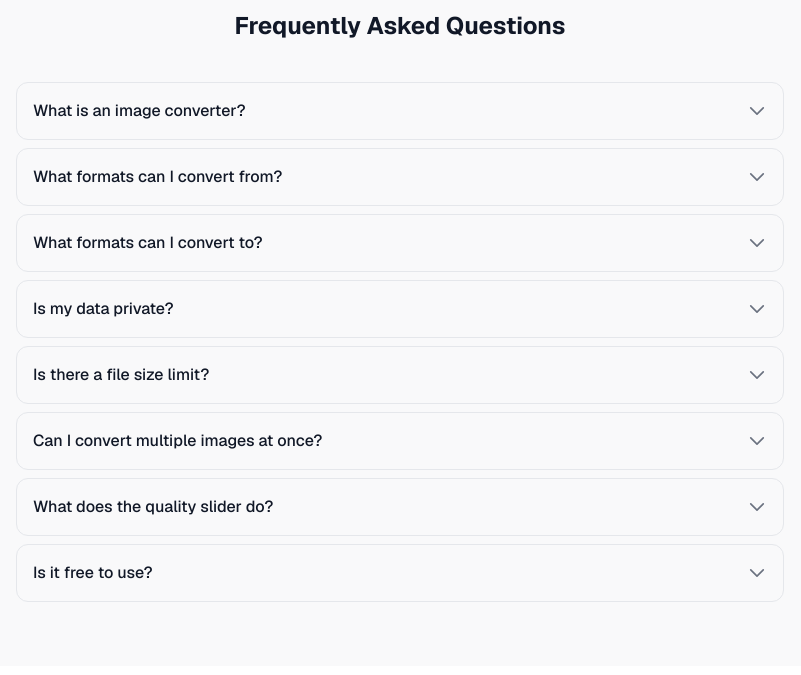
Test case: ConverterFAQ › expands answer on click
Click the button "What is an image converter?" at {"x": 139, "y": 110}, box [17, 83, 783, 139]
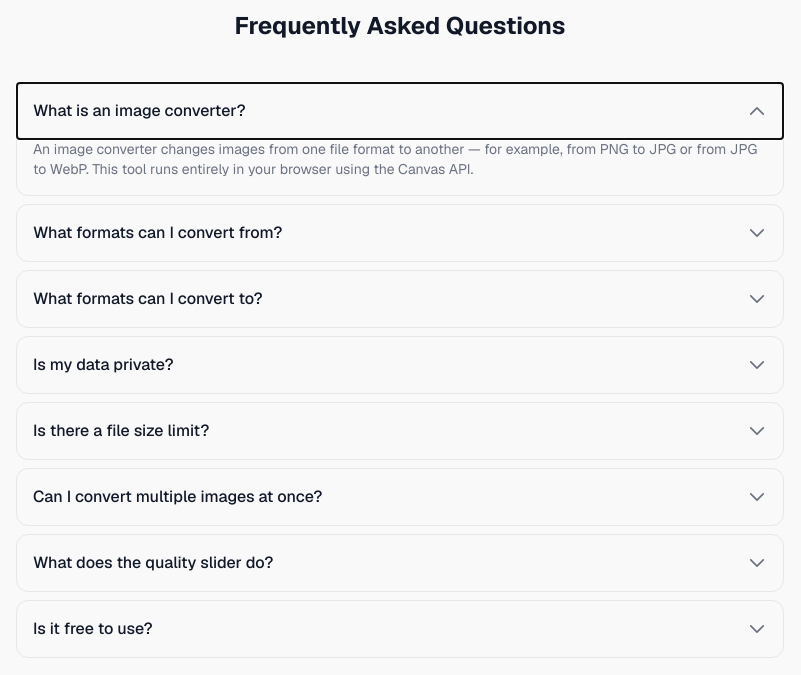
Result: the text "changes images from one file format" is shown at [33, 140, 757, 178]
